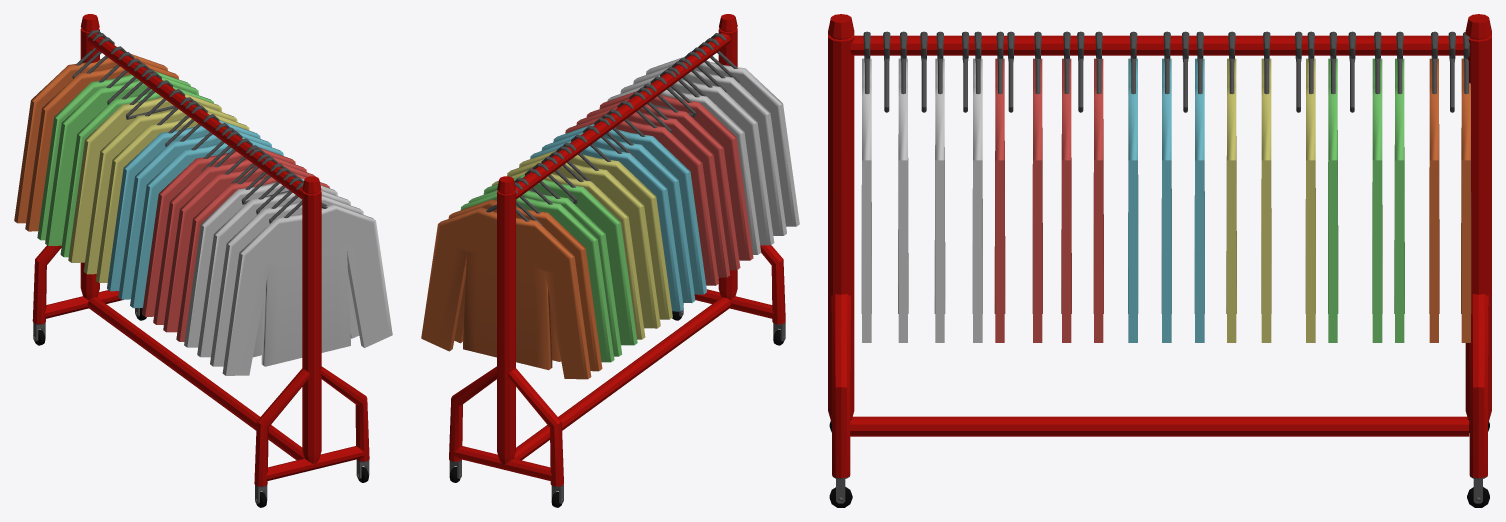
The model's file is Clothes_Long Sleeve Shirt Rack.fbx.
3 views of the same model, side by side, from view 1: azimuth 30°, elevation 25°; view 2: azimuth 150°, elevation 25°; view 3: azimuth 270°, elevation 25° (orthographic). The views are drawn at different scales.
Parts seen in each view (by area): view 1: pasted__pCube96; view 2: pasted__pCube96; view 3: pasted__pCube96.
Part boxes in pixels (bbox=[...]): pasted__pCube96: bbox=[14, 14, 392, 507]; pasted__pCube96: bbox=[421, 14, 799, 507]; pasted__pCube96: bbox=[828, 14, 1491, 507].
Size of the model in its own units: 1.87 by 3.38 by 4.48.
